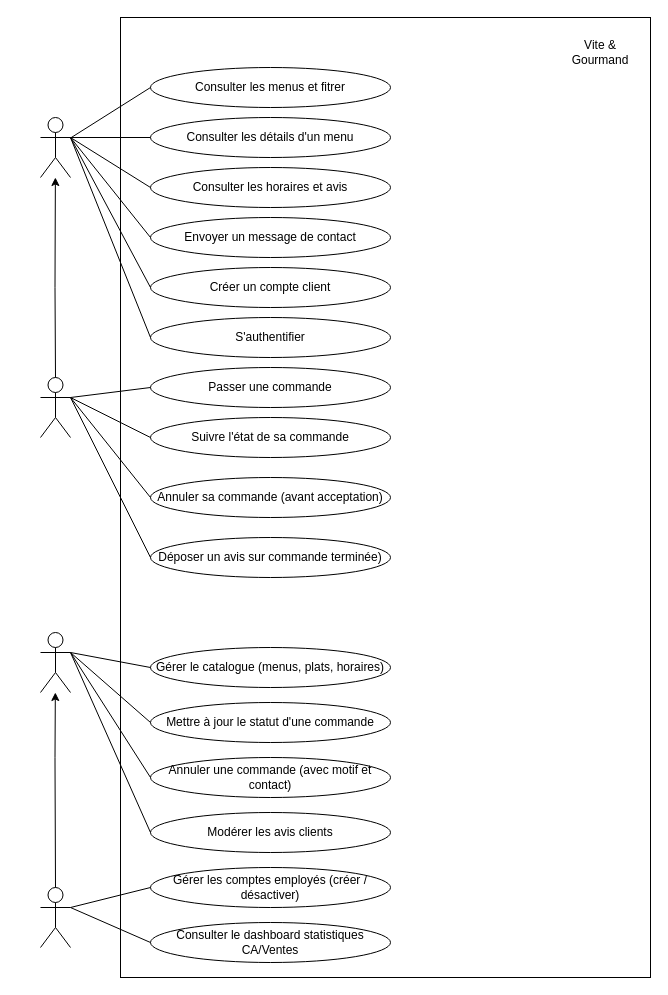
The diagram is 668 pixels wide and 995 high, and some of its shapes have lost their labels. The box of each missing label's shape, as (x1, y1, x2, y2) in pixels:
Administrateur: (40, 886, 70, 948)
employé: (40, 632, 70, 692)
Utilisateur: (40, 376, 70, 438)
Visiteur: (40, 116, 70, 178)
